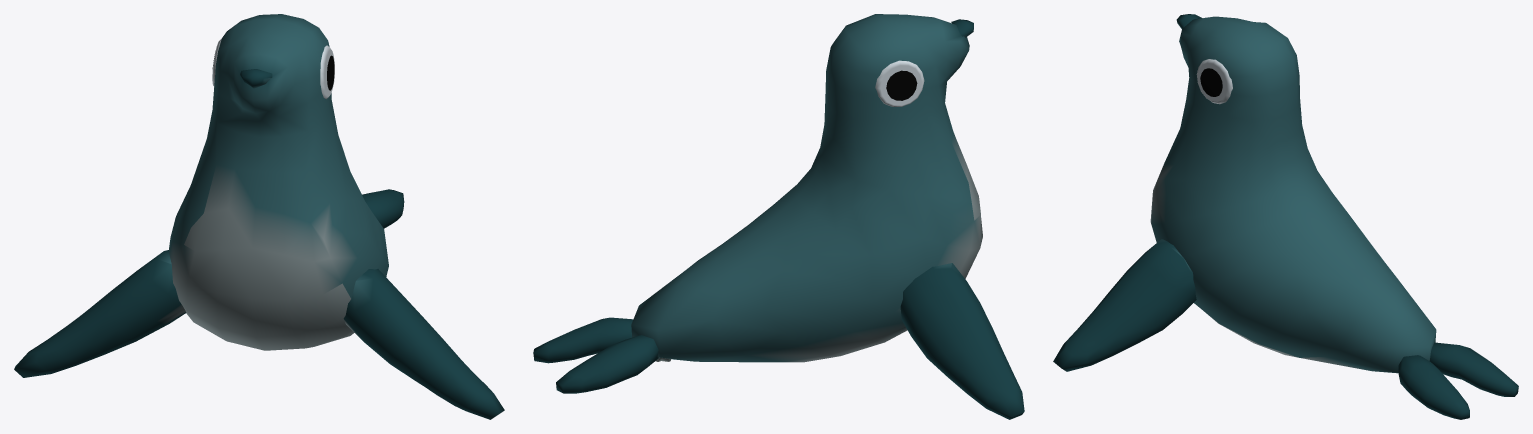
Rendered from SeaLion.glb.
The picture shows the model from 3 angles, left to right: view 1: azimuth 30°, elevation 25°; view 2: azimuth 150°, elevation 25°; view 3: azimuth 270°, elevation 25°; orthographic projection. The views are drawn at different scales.
Visible parts, largest first — view 1: 147; view 2: 147; view 3: 147.
Boxes of the visible parts, bbox=[...] form: 147: bbox=[14, 14, 504, 419]; 147: bbox=[533, 14, 1024, 419]; 147: bbox=[1053, 14, 1518, 419].
Size of the model in its own units: 1.43 by 1.03 by 1.46.
